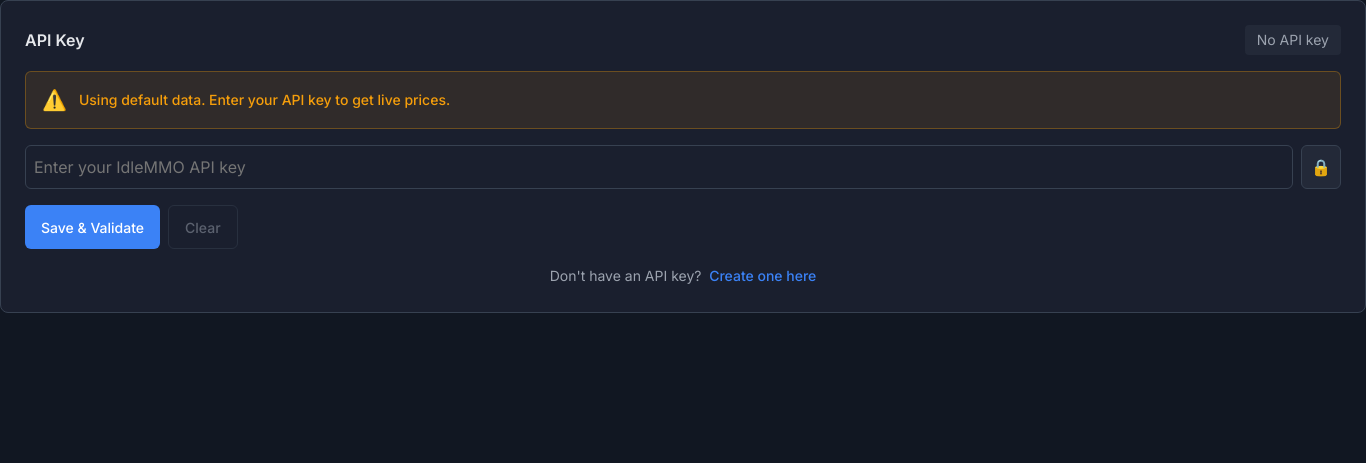
Test: ApiKeyInput › should show validation info when API key is valid
This screenshot has width=1366, height=463.
In the password field with class "key-input": (659, 167) x1=25 y1=145 x2=1293 y2=189, type "test-api-key-123"
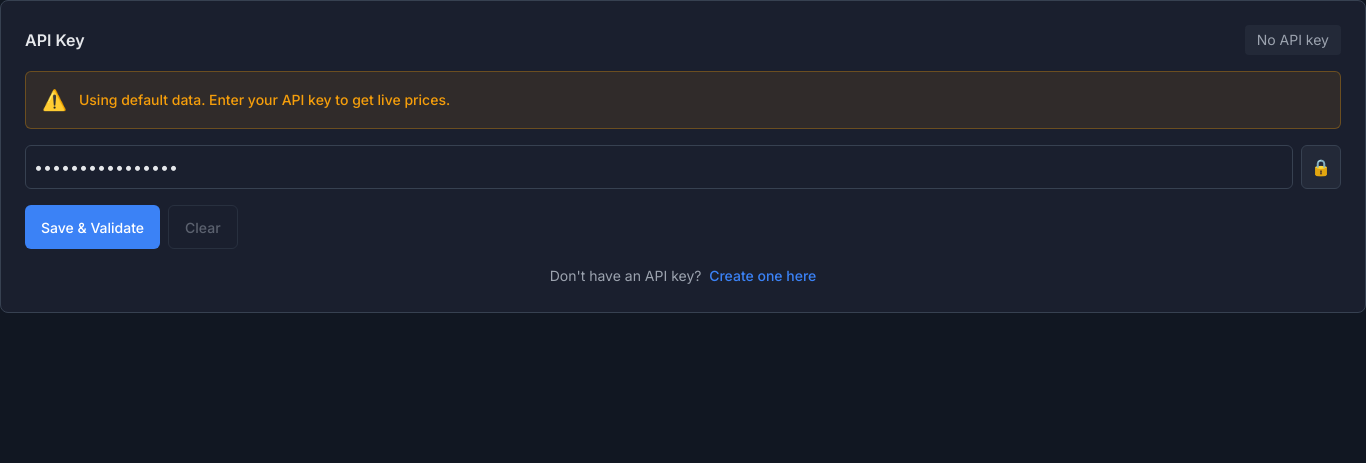
Click the button with class "btn-save": (92, 227) x1=25 y1=205 x2=160 y2=249
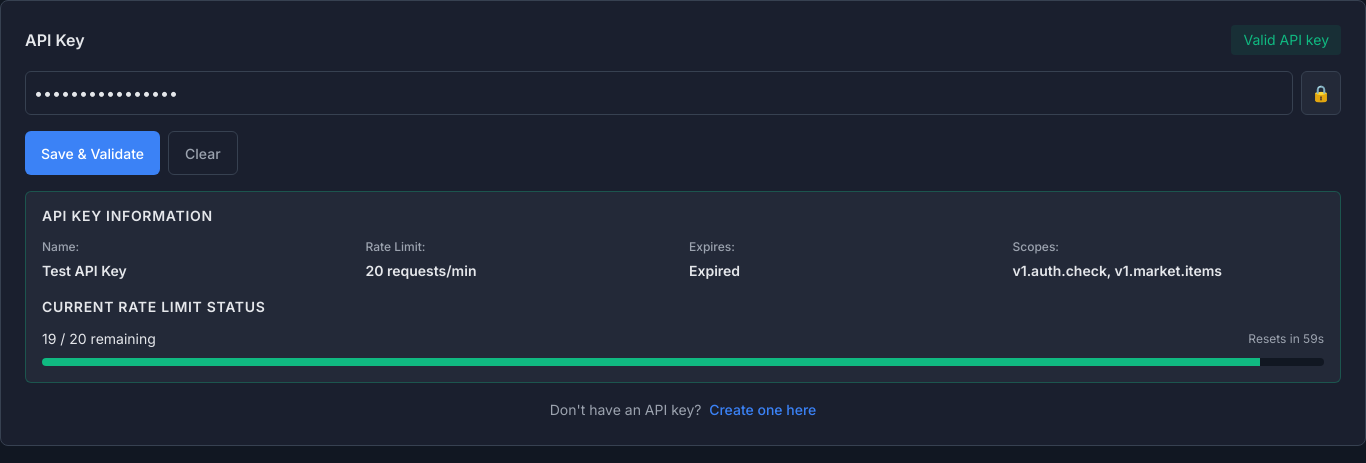
Expected: the element that starts with "API Key Information" is shown, x1=25 y1=191 x2=1341 y2=383
Expected: the text "Test API Key" is shown, x1=42 y1=262 x2=127 y2=279
Expected: the text "20 requests/min" is shown, x1=366 y1=262 x2=476 y2=279
